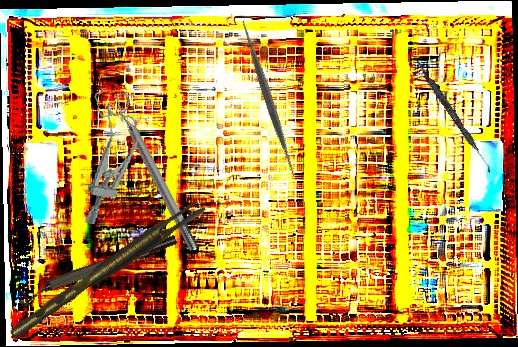Fixation Ring: (104, 93, 206, 256), (14, 231, 181, 309)
Spatula Surgical: (183, 13, 354, 183), (409, 54, 496, 174)
Speculum: (74, 86, 146, 230)
Tissue Forceps: (2, 197, 211, 340)
